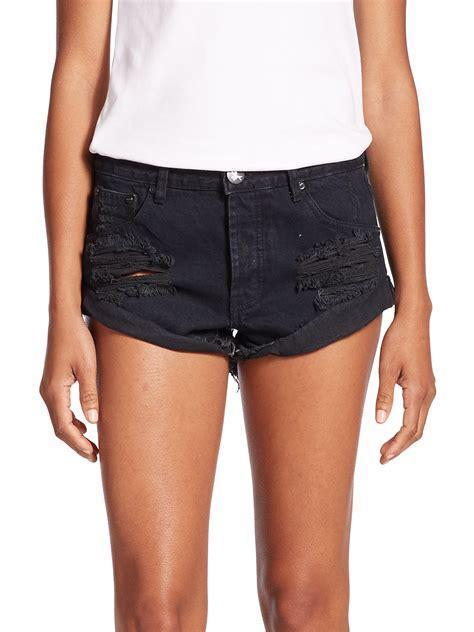short: (79, 154, 396, 362)
